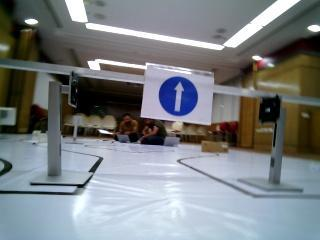straight: (145, 65, 212, 125)
